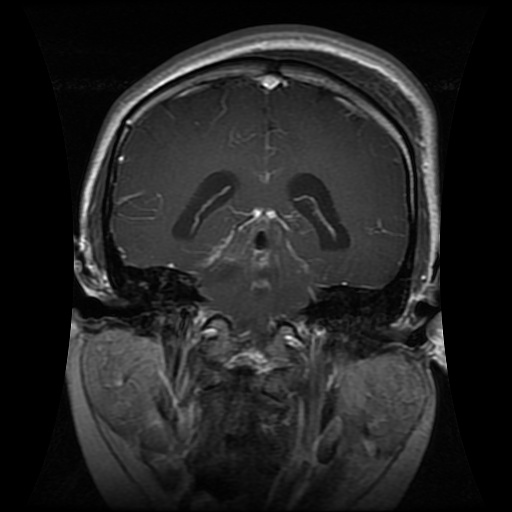glioma: (196, 202, 312, 292)
